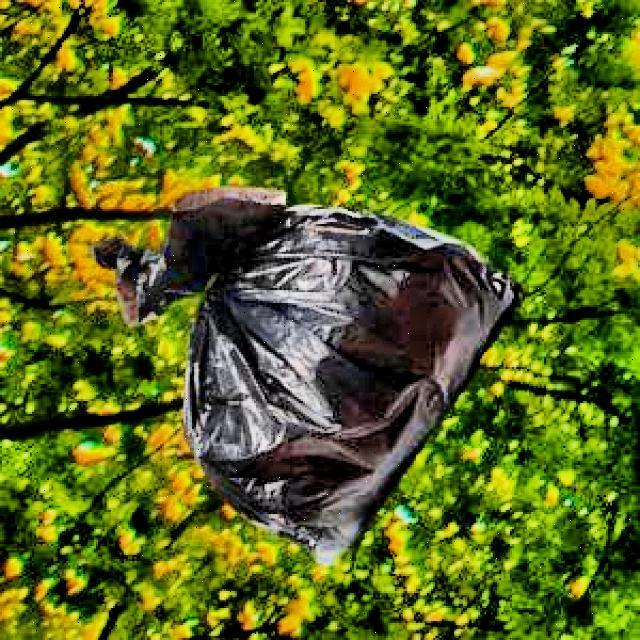Trashbag: (90, 171, 521, 575)
